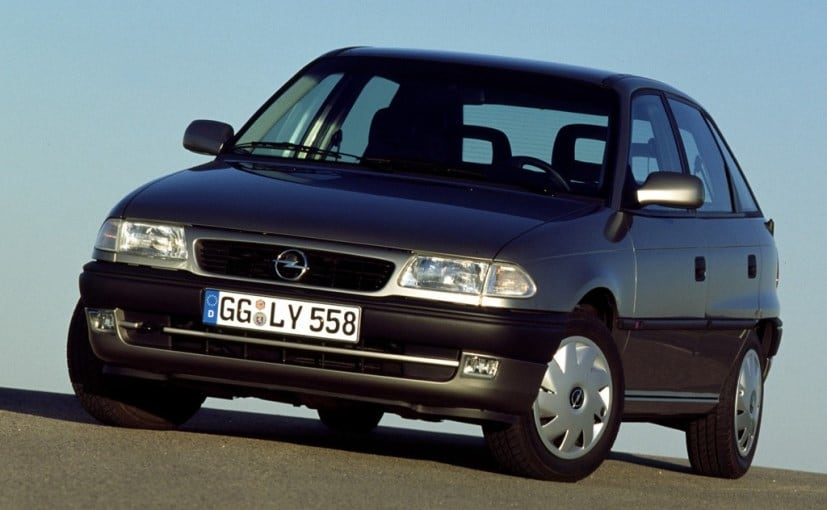number_plate: (200, 282, 365, 346)
